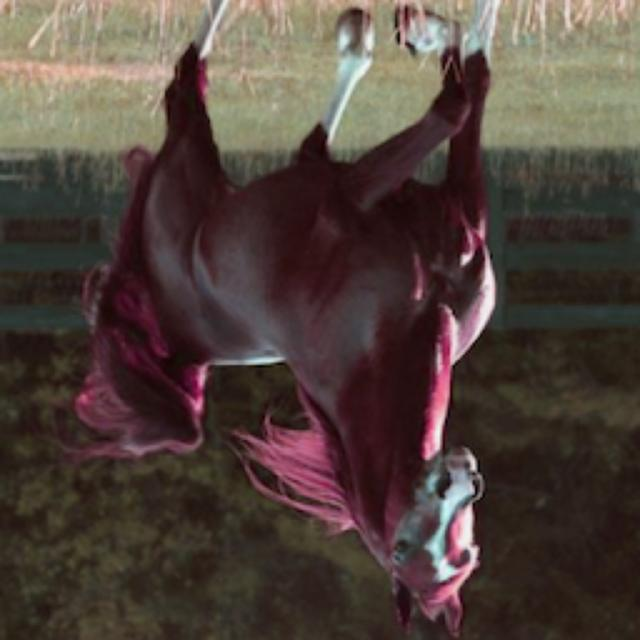Horse: (55, 2, 523, 640)
